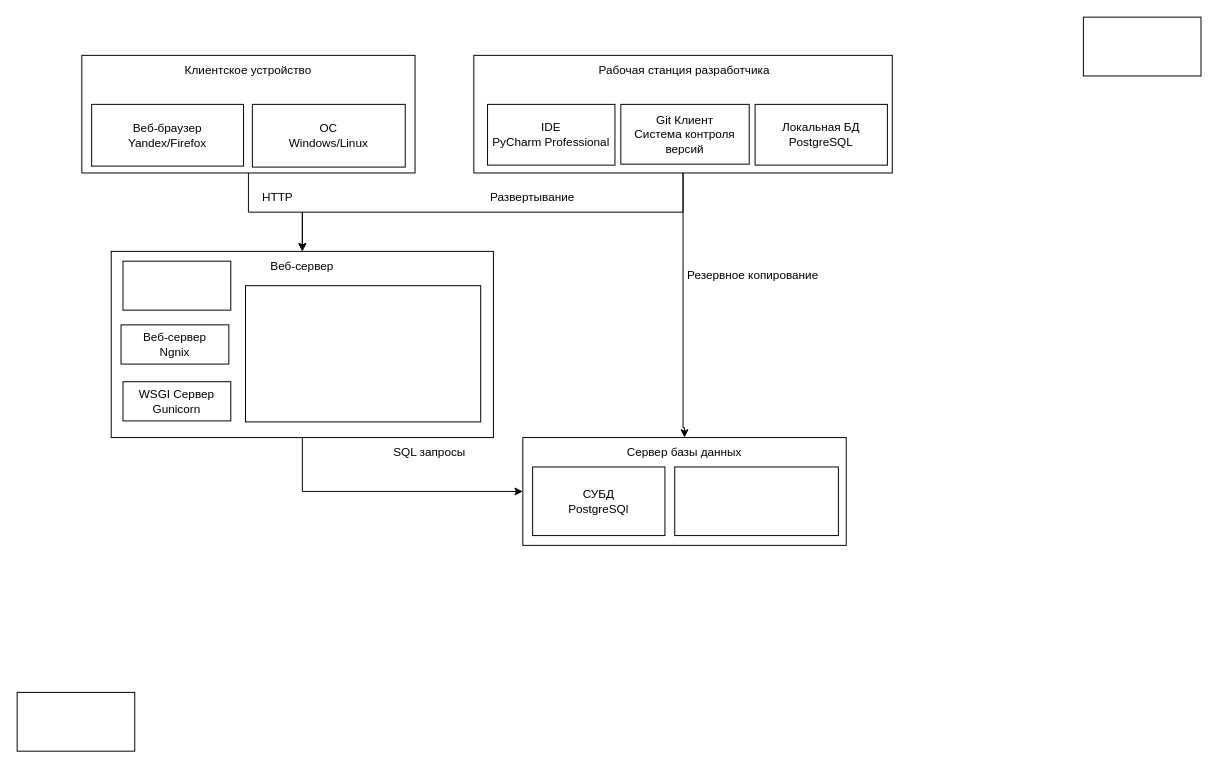
This 1218x768 diagram has some shape labels left out. The centre of each missing label's shape, as x and y in pixels:
Django Веб-приложение rental: [363,353]
Python Интерпретатор Python 3.x: [176,285]
Файлы базы данных cinema_db: [756,501]
